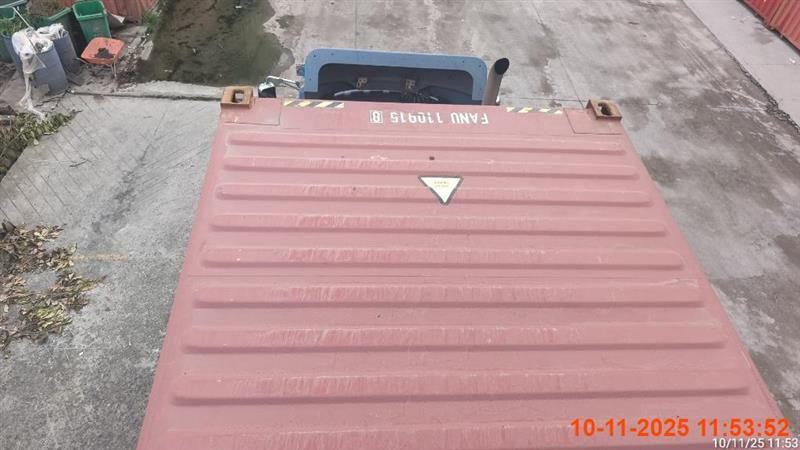hole: (135, 50, 798, 442)
